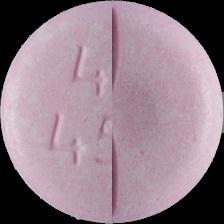21130-450: (0, 0, 224, 224)
